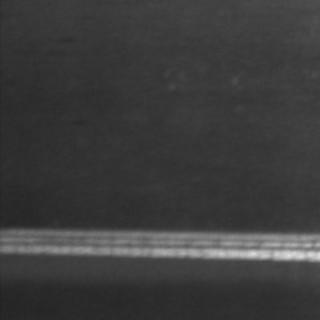scratches: (0, 220, 316, 264)
